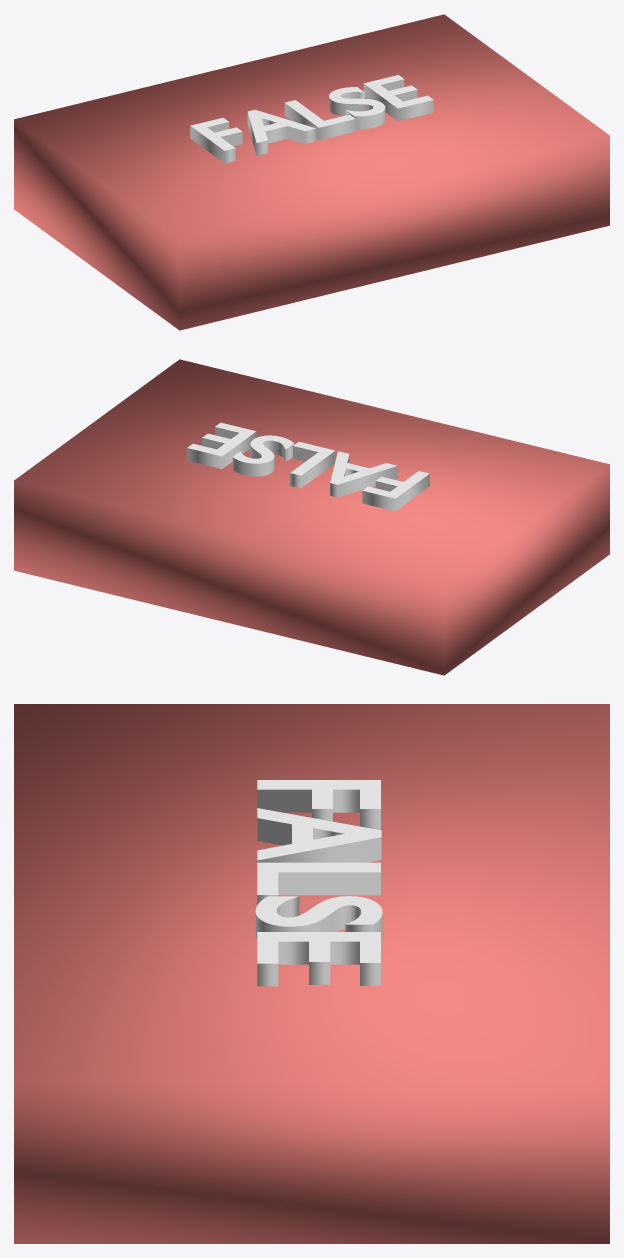
The model's file is false.glb.
3 renders of one model, top to bottom at view 1: azimuth 30°, elevation 25°; view 2: azimuth 150°, elevation 25°; view 3: azimuth 270°, elevation 25°, orthographic. The views are drawn at different scales.
Parts seen in each view (by area): view 1: False_Base, False_Text; view 2: False_Base, False_Text; view 3: False_Base, False_Text.
Boxes of the visible parts, box(x1,y1,x2,y2) form: False_Base: box(14, 14, 609, 330); False_Text: box(190, 75, 433, 163); False_Base: box(14, 359, 609, 675); False_Text: box(187, 422, 429, 511); False_Base: box(14, 704, 609, 1243); False_Text: box(255, 780, 382, 986).
Size of the model in its own units: 3 by 0.685 by 2.
